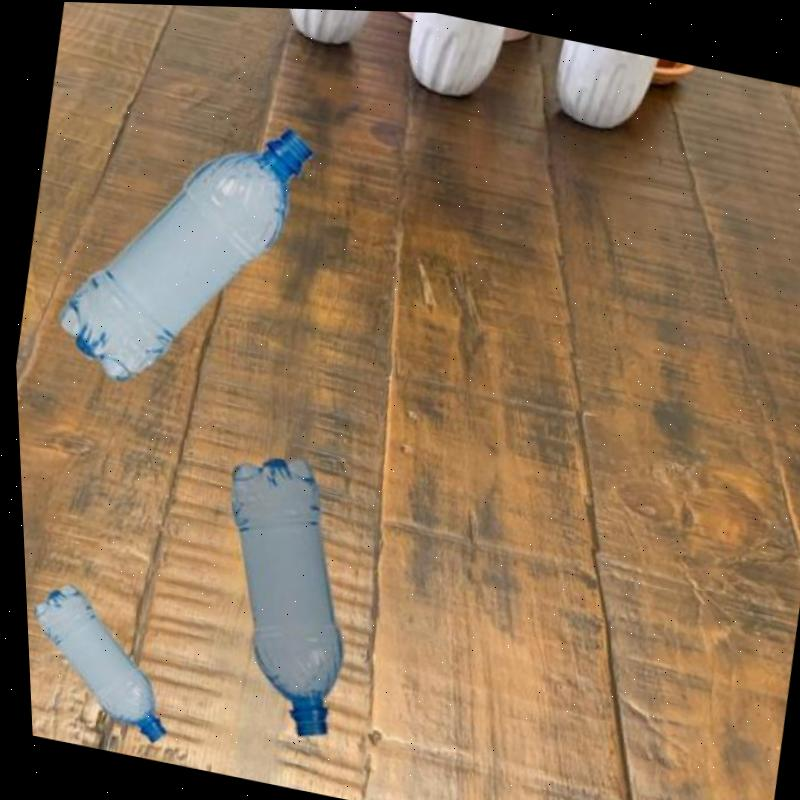botella: (37, 83, 327, 416), (183, 443, 375, 743), (20, 577, 183, 747)
